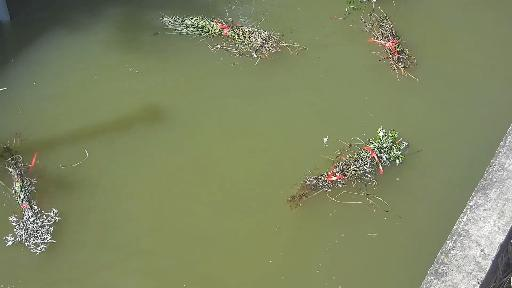twig: (151, 5, 335, 80), (0, 133, 94, 258), (274, 139, 412, 211), (330, 0, 419, 82)
